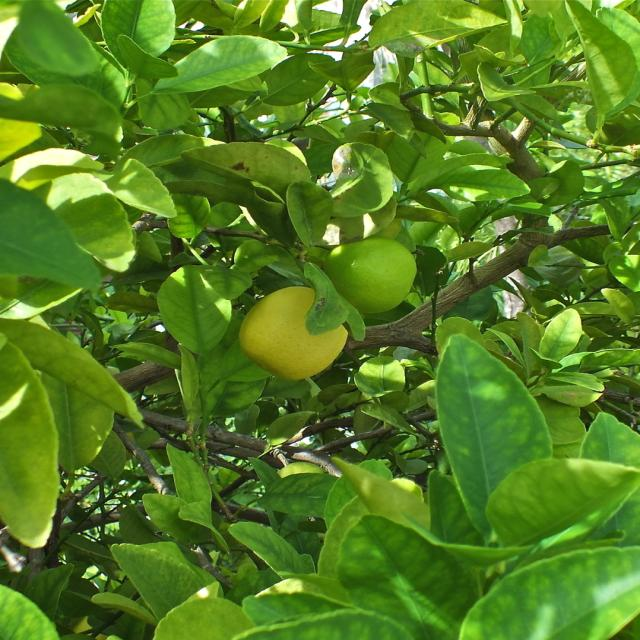Lemon: (243, 286, 351, 386), (326, 236, 418, 313), (280, 462, 323, 478)
